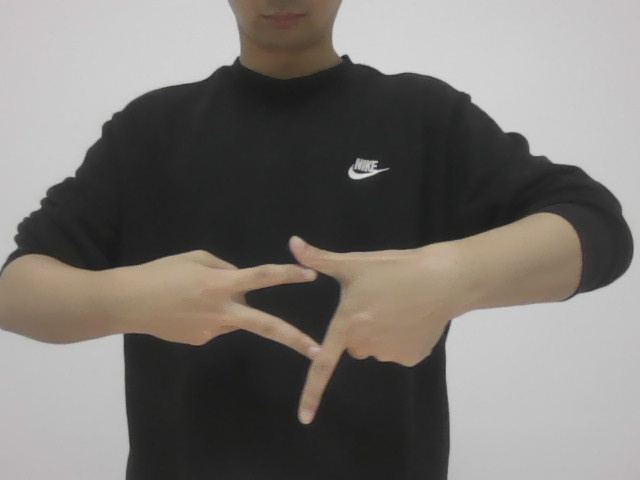introduce: (120, 229, 450, 426)
